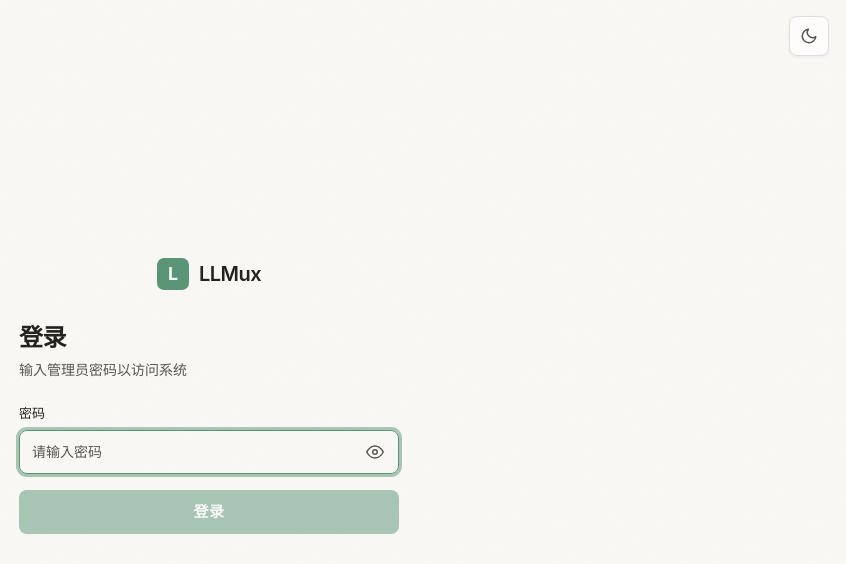
Test: 登录过期一次性提示 › 登录失败：输入框进入错误态并与提示建立无障碍关联，重新输入后提示消失
The image size is (846, 564).
Type "wrong" into the password field labelled "密码" at (209, 452), box left=19, top=430, right=399, bottom=474
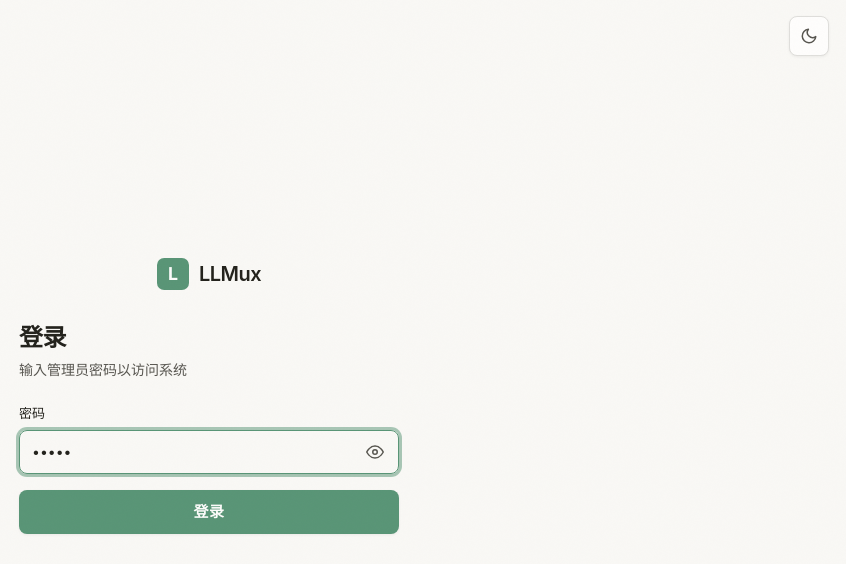
Click the button "登录" at (209, 512), box left=19, top=490, right=399, bottom=534
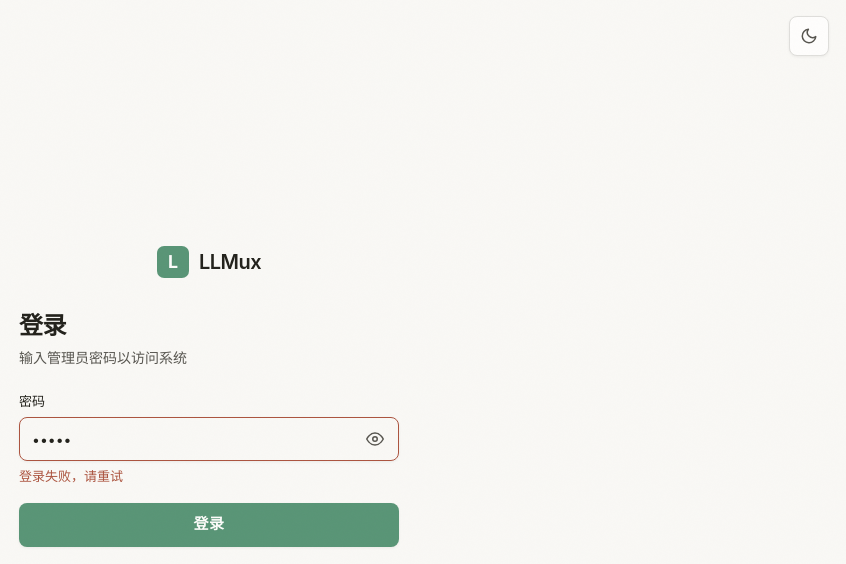
Result: the password field labelled "密码" is marked as invalid
Result: the password field labelled "密码" has attribute aria-describedby="login-error"
// 重新输入即清错误（用户改密码的当下就该看到「刚才那条作废」）
Type "another-try" into the password field labelled "密码" at (209, 439), box left=19, top=417, right=399, bottom=461
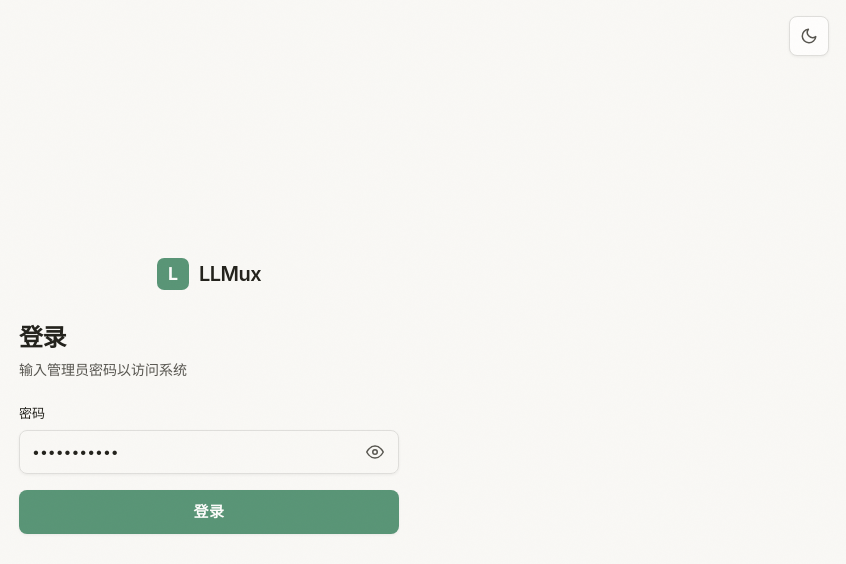
Result: the message "登录失败，请重试" is gone
